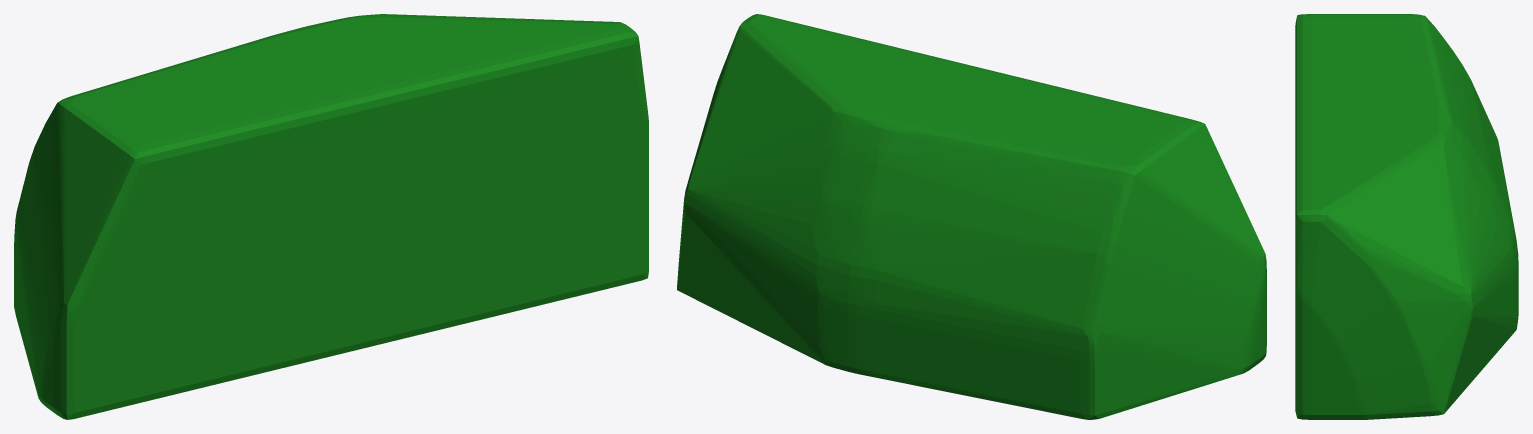
File: right_shoulder_pitch_link_part_8.obj
3 views of the same model, side by side, from view 1: azimuth 30°, elevation 25°; view 2: azimuth 150°, elevation 25°; view 3: azimuth 270°, elevation 25° (orthographic). The views are drawn at different scales.
Size of the model in its own units: 0.0673 by 0.0274 by 0.0271.
